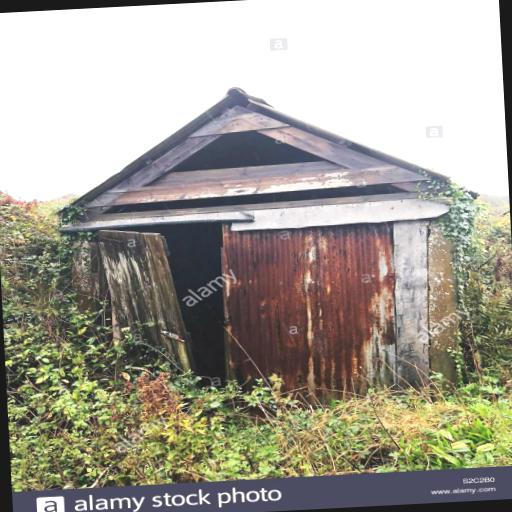corrosion: (223, 224, 398, 395), (101, 233, 183, 335)
